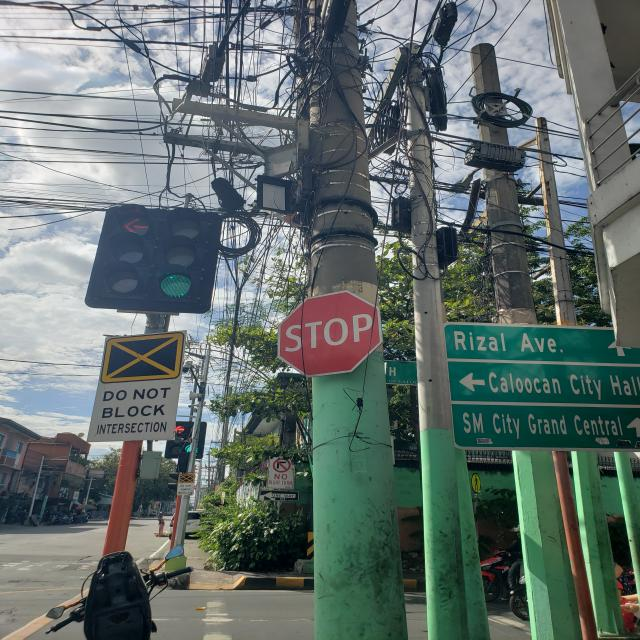stop-sign: (277, 290, 384, 378)
